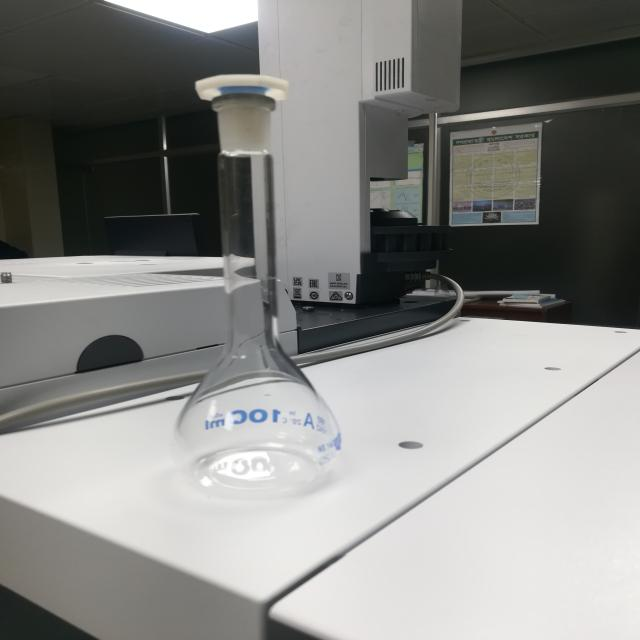Volumetric_Flask: (134, 47, 390, 509)
